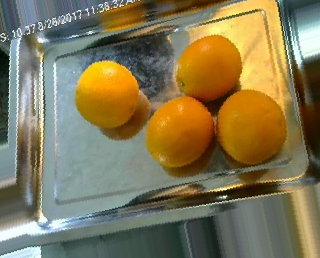Orange: (215, 86, 287, 166), (144, 97, 214, 169), (75, 59, 140, 127), (175, 34, 241, 99)
